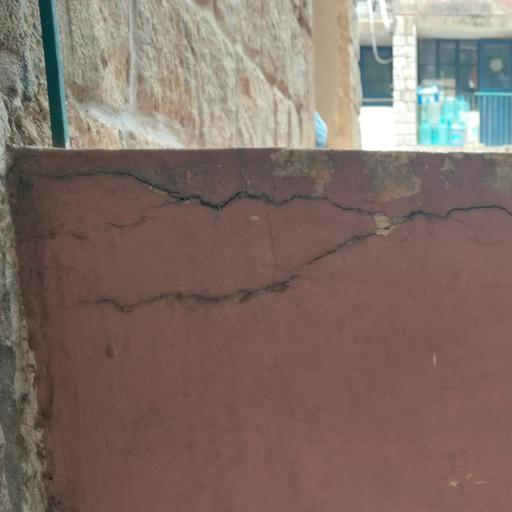major_crack: (30, 154, 512, 320)
